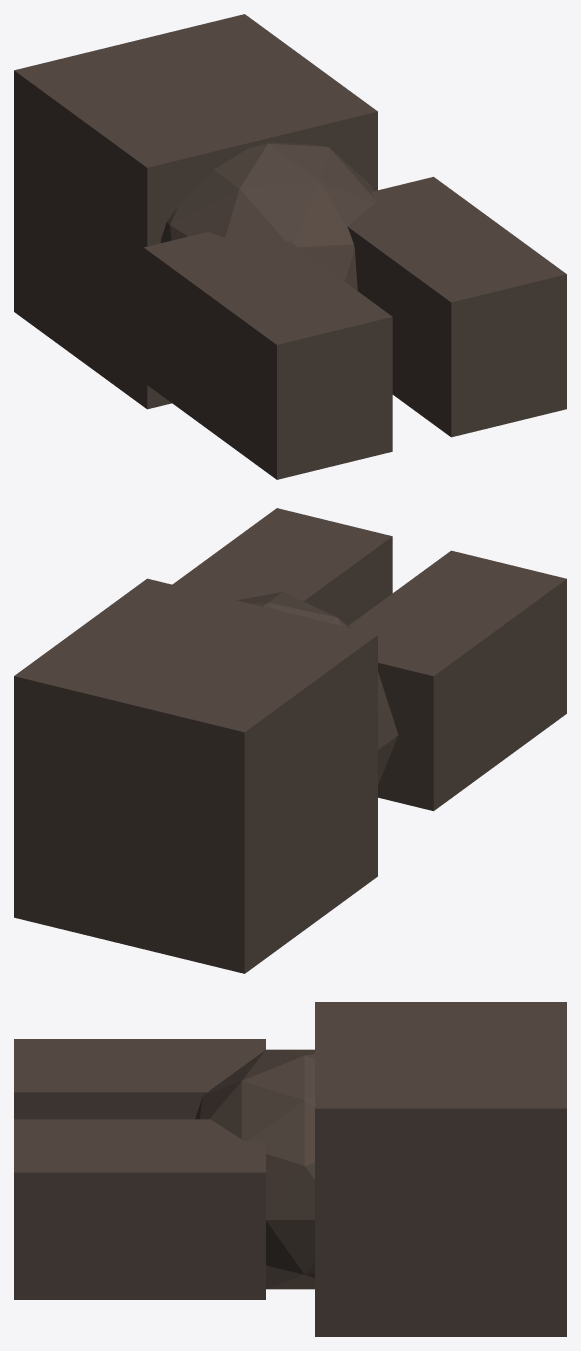
The model's file is ram_ship.glb.
The picture shows the model from 3 angles, top to bottom: view 1: azimuth 30°, elevation 25°; view 2: azimuth 150°, elevation 25°; view 3: azimuth 270°, elevation 25°; orthographic projection. The views are drawn at different scales.
Visible parts, largest first — view 1: Cube.001, Cube, Icosphere; view 2: Cube, Cube.001, Icosphere; view 3: Cube, Cube.001, Icosphere.
Part boxes in pixels (x1,y1,x2,y2): Cube.001: [143, 176, 566, 479]; Cube: [14, 14, 377, 409]; Icosphere: [160, 142, 375, 290]; Cube: [14, 578, 377, 973]; Cube.001: [172, 508, 566, 811]; Icosphere: [237, 592, 398, 787]; Cube: [315, 1002, 566, 1336]; Cube.001: [14, 1039, 265, 1299]; Icosphere: [195, 1049, 314, 1289].
Size of the model in its own units: 2.51 by 2 by 4.39.
